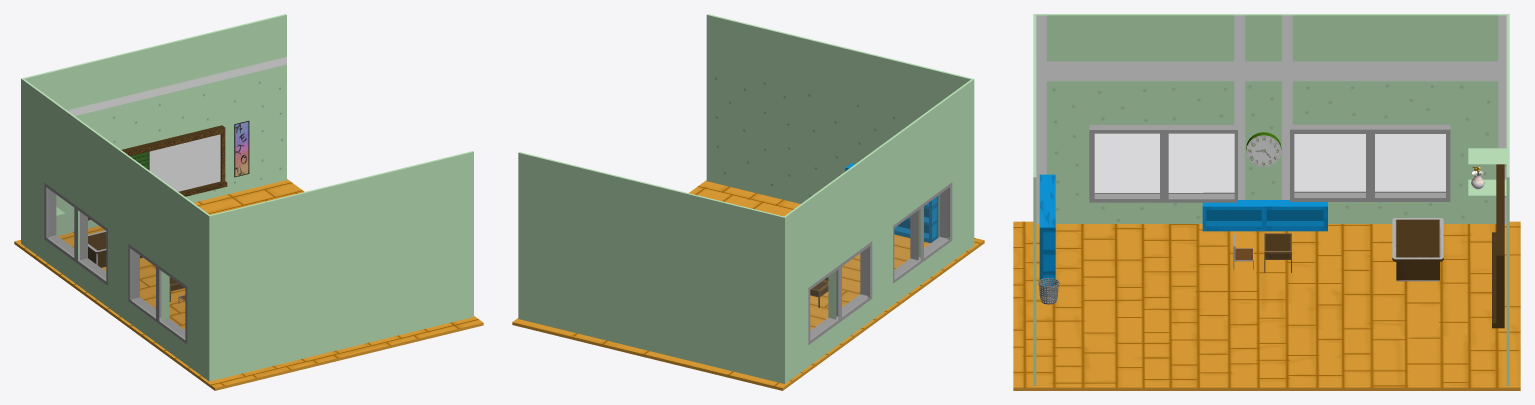
The model's file is classroom.fbx.
3 renders of one model, left to right at view 1: azimuth 30°, elevation 25°; view 2: azimuth 150°, elevation 25°; view 3: azimuth 270°, elevation 25°, orthographic. The views are drawn at different scales.
Parts seen in each view (by area): view 1: room, pCube1, banner, teacher_table; view 2: room, pCube1, shelf_low1; view 3: room, pCube1, shelf_low, teacher_table, shelf_low1, student_table, trashcan.
Boxes of the visible parts, box(x1,y1,x2,y2) form: room: box(21, 14, 473, 381); pCube1: box(14, 179, 483, 390); banner: box(234, 121, 249, 177); teacher_table: box(88, 230, 142, 267); room: box(518, 14, 974, 383); pCube1: box(512, 180, 984, 390); shelf_low1: box(845, 163, 938, 242); room: box(1033, 14, 1509, 385); pCube1: box(1013, 221, 1520, 390); shelf_low: box(1202, 200, 1327, 231); teacher_table: box(1392, 218, 1443, 281); shelf_low1: box(1039, 174, 1055, 295); student_table: box(1264, 233, 1291, 272); trashcan: box(1038, 278, 1059, 304).
Bounding box in the file's own units: 49.21 × 29.45 × 63.65.
12 materials, 9 textured.
